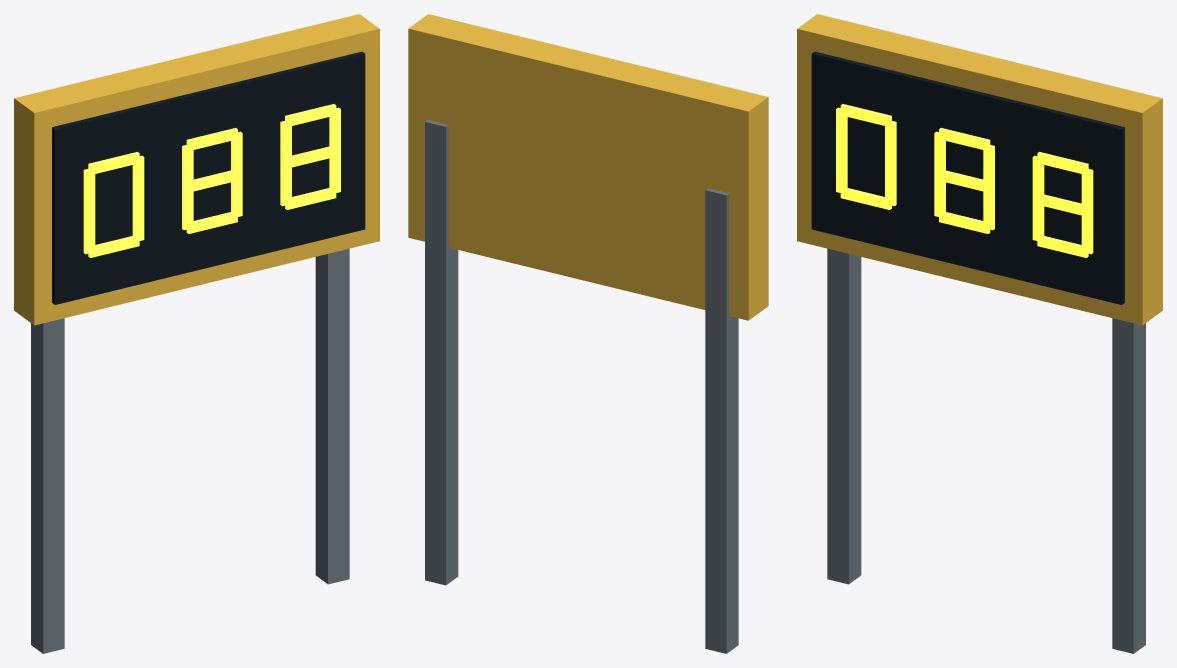
File: speed_radar.glb
The picture shows the model from 3 angles, left to right: view 1: azimuth 30°, elevation 25°; view 2: azimuth 150°, elevation 25°; view 3: azimuth 330°, elevation 25°; orthographic projection.
Visible parts, largest first — view 1: Dark digital screen, Radar outer frame, Right radar post, Left radar post, 8 segment 2-a, 0 segment 0-a, 8 segment 1-a, 8 segment 1-d, 0 segment 0-d, 8 segment 2-d, 8 segment 2-g, 8 segment 1-g (+4 smaller); view 2: Radar outer frame, Left radar post, Right radar post; view 3: Dark digital screen, Radar outer frame, Left radar post, Right radar post, 0 segment 0-a, 8 segment 2-a, 8 segment 1-a, 8 segment 2-d, 8 segment 1-d, 0 segment 0-d, 8 segment 1-g, 8 segment 2-c (+2 smaller).
Boxes of the visible parts, bbox=[...] form: Dark digital screen: bbox=[52, 51, 365, 304]; Radar outer frame: bbox=[14, 14, 379, 325]; Right radar post: bbox=[315, 248, 349, 584]; Left radar post: bbox=[31, 318, 64, 653]; 8 segment 2-a: bbox=[285, 104, 336, 127]; 0 segment 0-a: bbox=[88, 152, 139, 174]; 8 segment 1-a: bbox=[186, 128, 237, 150]; 8 segment 1-d: bbox=[186, 212, 237, 233]; 0 segment 0-d: bbox=[88, 236, 139, 257]; 8 segment 2-d: bbox=[285, 188, 336, 209]; 8 segment 2-g: bbox=[287, 146, 336, 168]; 8 segment 1-g: bbox=[188, 170, 237, 192]; Radar outer frame: bbox=[408, 14, 768, 320]; Left radar post: bbox=[705, 188, 738, 653]; Right radar post: bbox=[425, 120, 458, 585]; Dark digital screen: bbox=[811, 51, 1124, 304]; Radar outer frame: bbox=[797, 14, 1162, 325]; Left radar post: bbox=[827, 248, 861, 584]; Right radar post: bbox=[1112, 318, 1145, 653]; 0 segment 0-a: bbox=[840, 104, 891, 127]; 8 segment 2-a: bbox=[1037, 152, 1088, 174]; 8 segment 1-a: bbox=[939, 128, 990, 150]; 8 segment 2-d: bbox=[1037, 236, 1088, 257]; 8 segment 1-d: bbox=[939, 212, 990, 233]; 0 segment 0-d: bbox=[840, 188, 891, 209]; 8 segment 1-g: bbox=[939, 170, 987, 191]; 8 segment 2-c: bbox=[1081, 210, 1093, 254].
Bounding box in the file's own units: 1.77 × 2.71 × 0.26.
